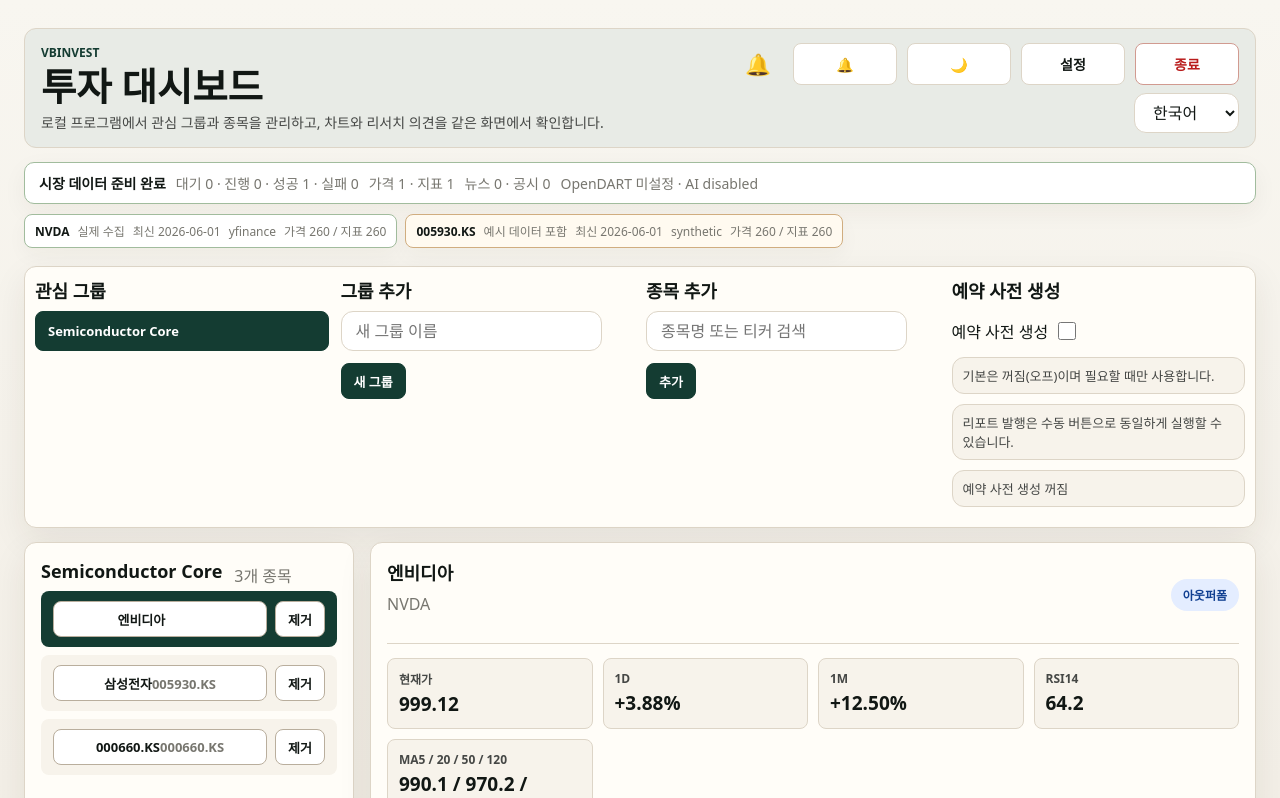
Test: WatchlistDashboard › shows a safe shutdown error message when shutdown is not available
Check: the button "새 그룹" is enabled, box [340,363,406,399]
Click the button "종료". click: (1187, 64)
box: [1135,43,1239,85]
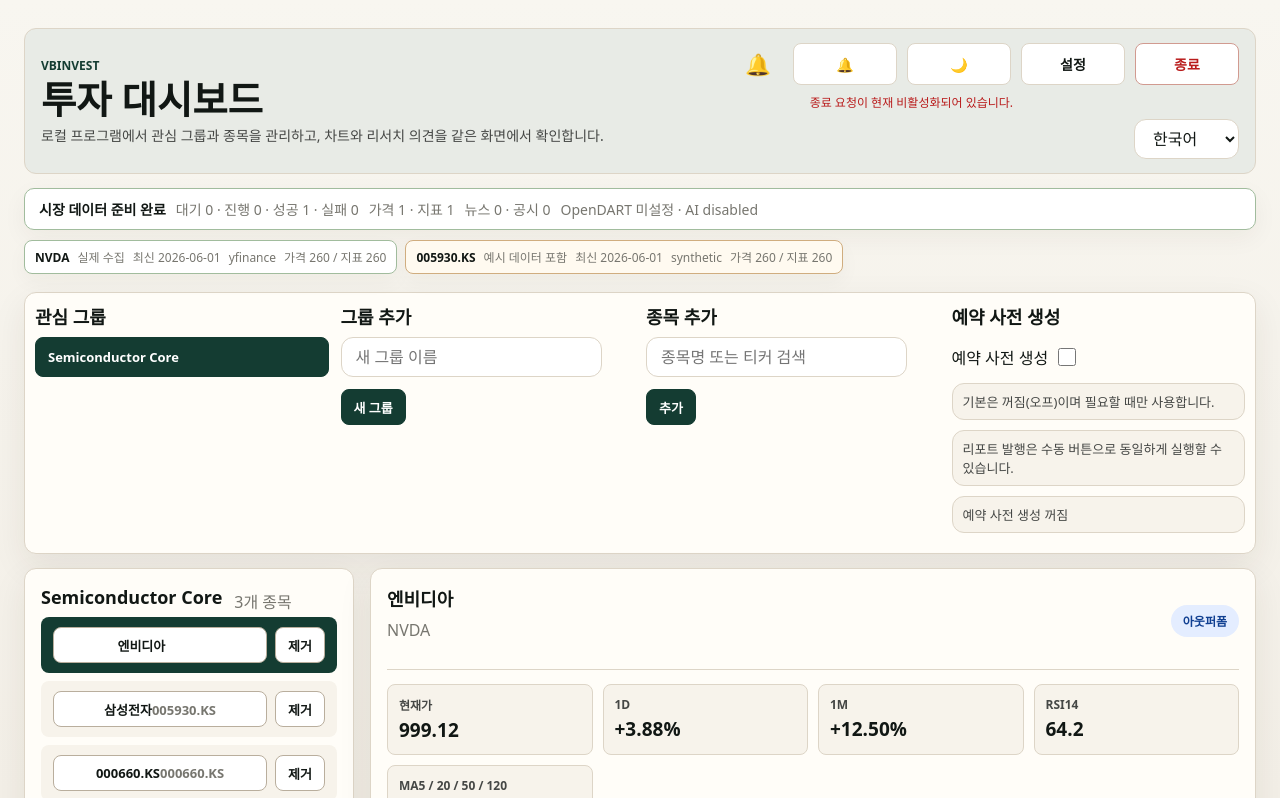
Check: the text "종료 요청이 현재 비활성화되어 있습니다." is shown, box [810,94,1013,111]
